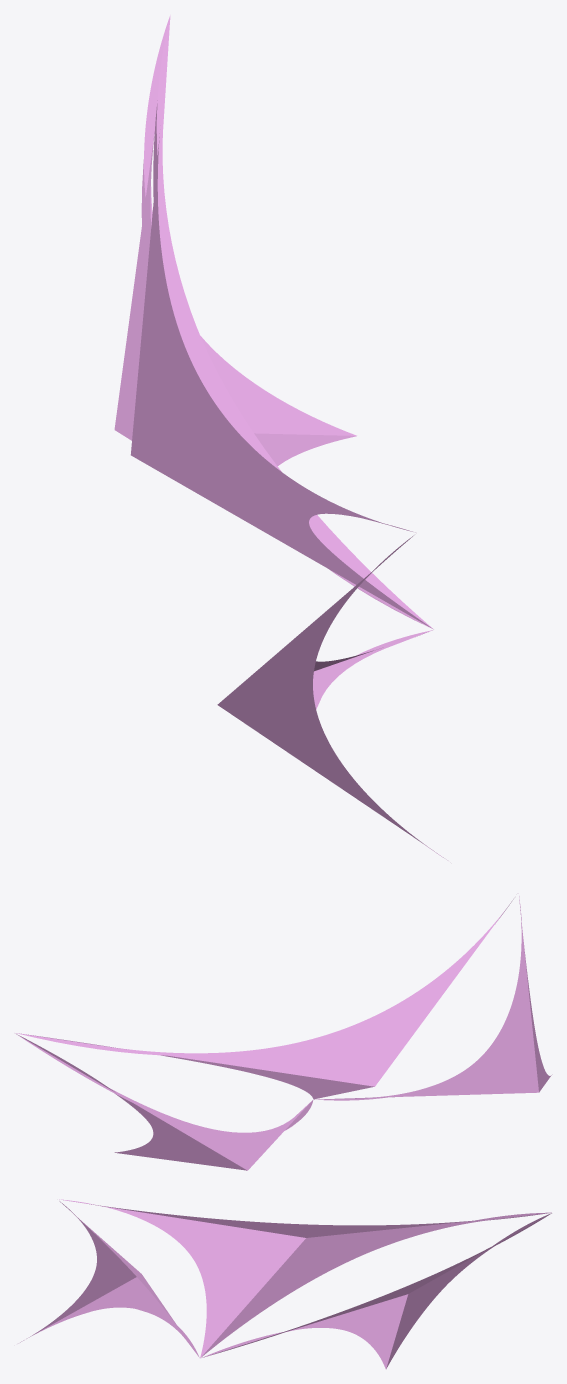
File: TYPE13-5.glb
3 renders of one model, top to bottom at view 1: azimuth 30°, elevation 25°; view 2: azimuth 150°, elevation 25°; view 3: azimuth 270°, elevation 25°, orthographic. The views are drawn at different scales.
Parts seen in each view (by area): view 1: TYPE13-5 (×8); view 2: TYPE13-5 (×6); view 3: TYPE13-5 (×9).
Part boxes in pixels (bbox=[...]): TYPE13-5 (×8): bbox=[114, 15, 443, 857]; TYPE13-5 (×6): bbox=[16, 893, 551, 1170]; TYPE13-5 (×9): bbox=[20, 1199, 551, 1368].
Bounding box in the file's own units: 3.08 × 3 × 7.47.
